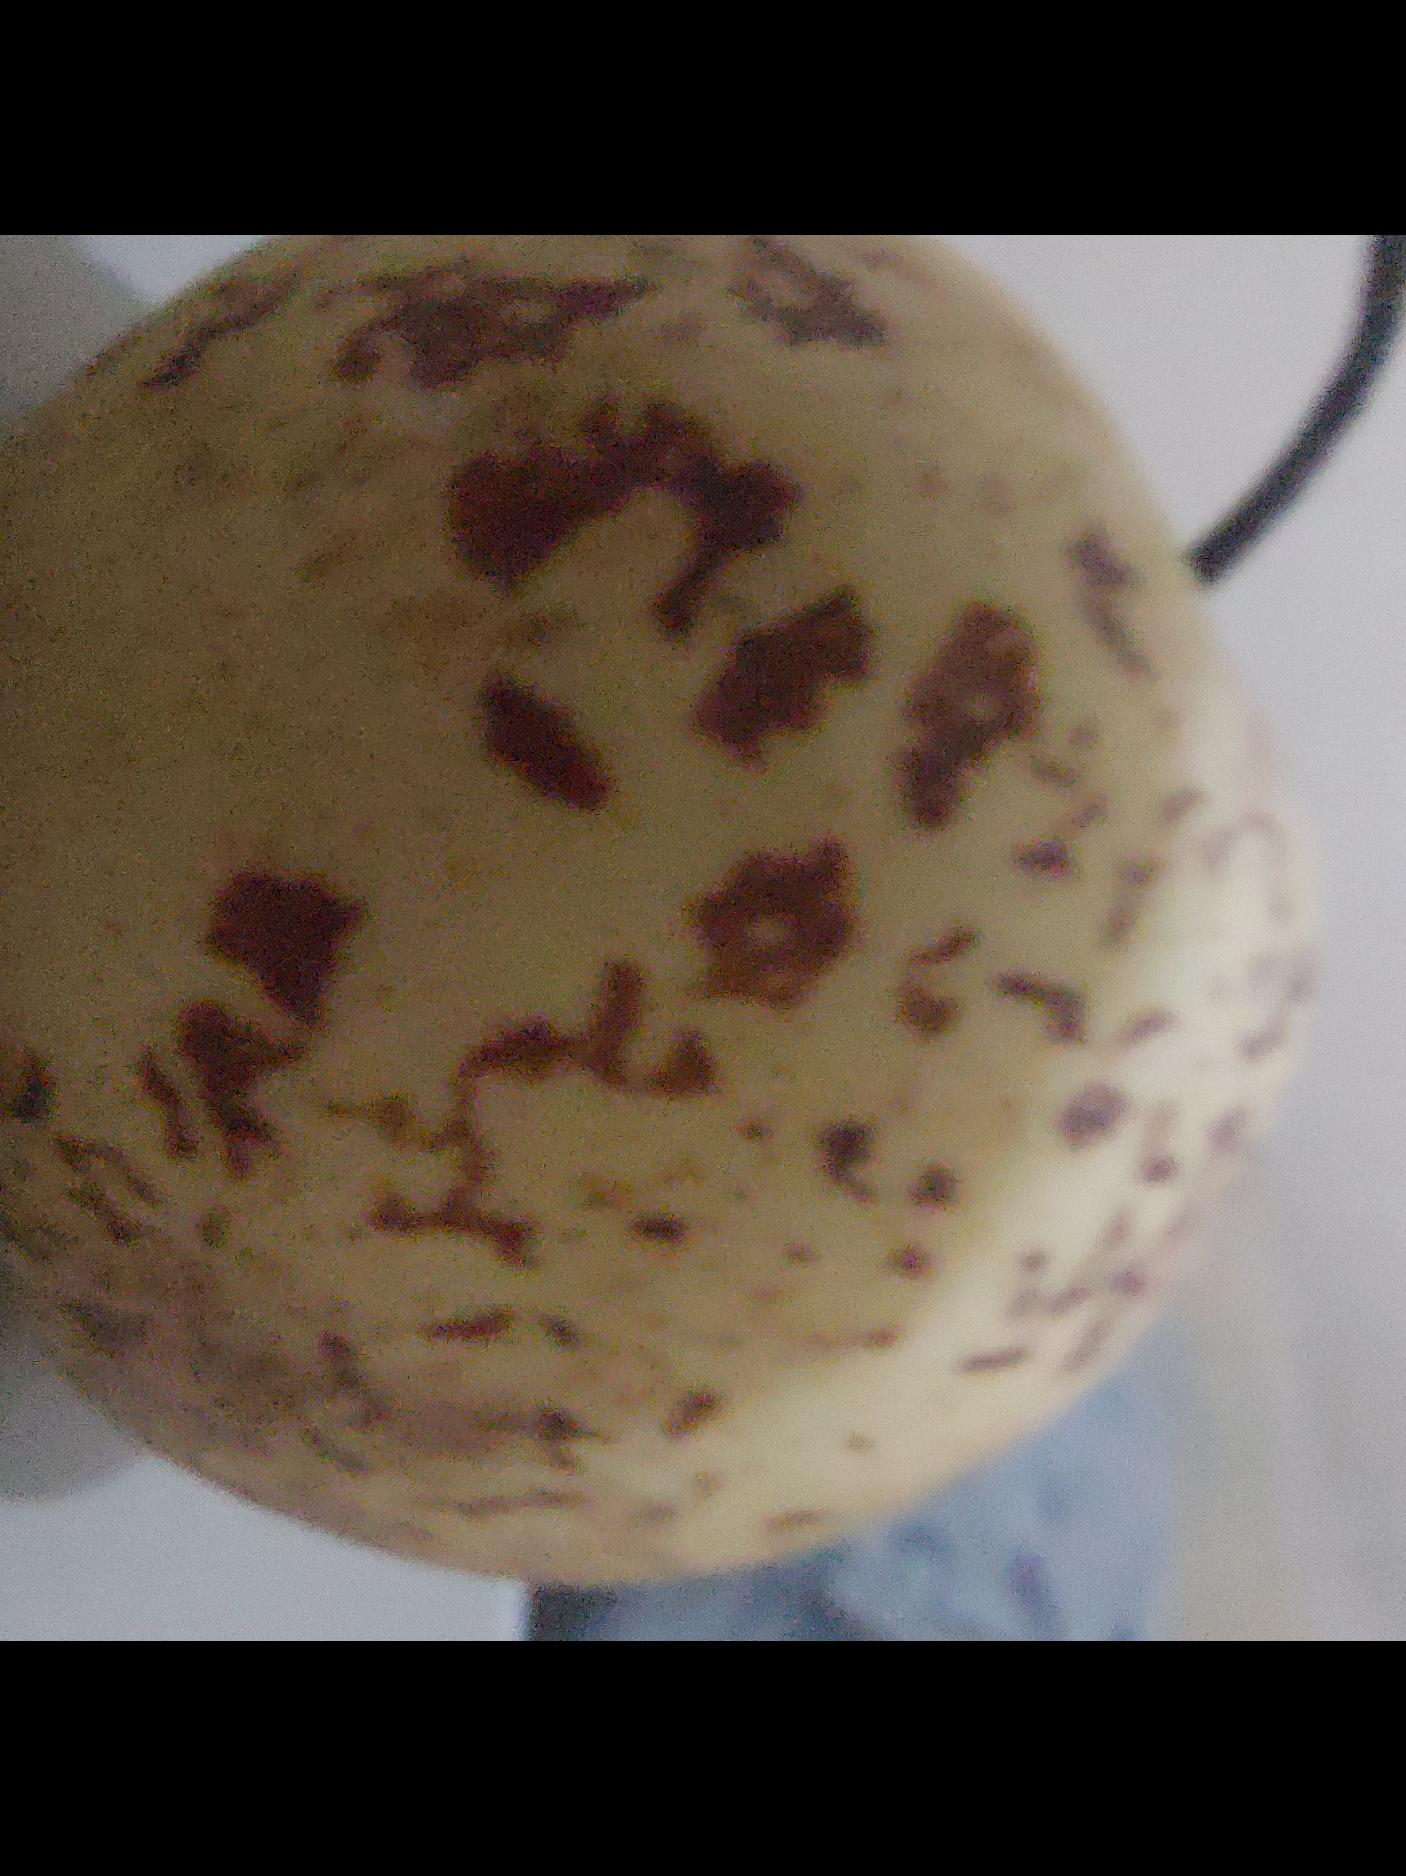Bad Pear: (0, 235, 1306, 1591)
